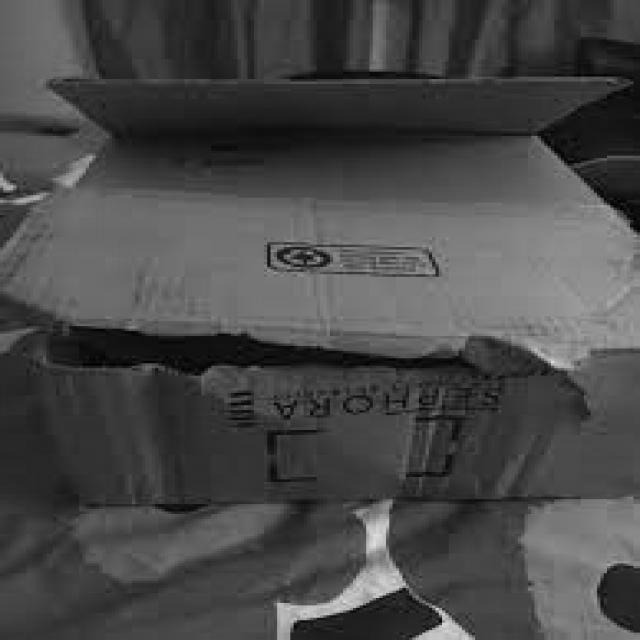hole: (37, 304, 565, 380)
